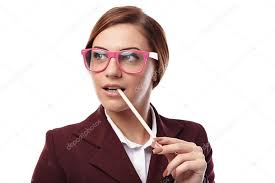Glasses: (73, 43, 161, 76)
